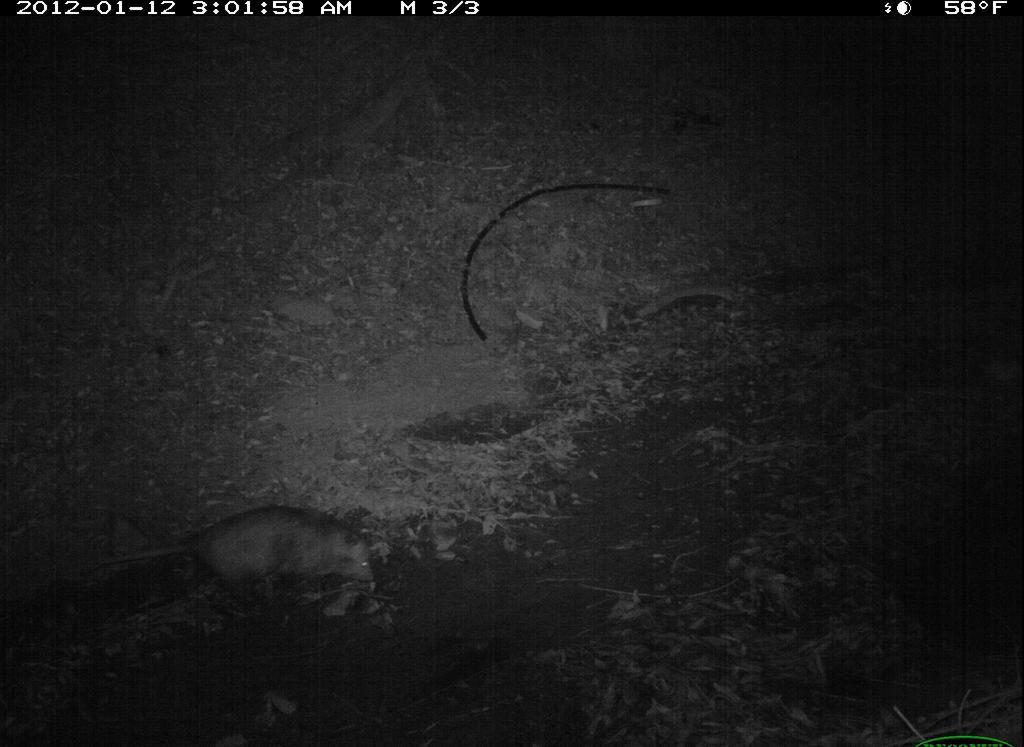opossum: (127, 469, 406, 644)
